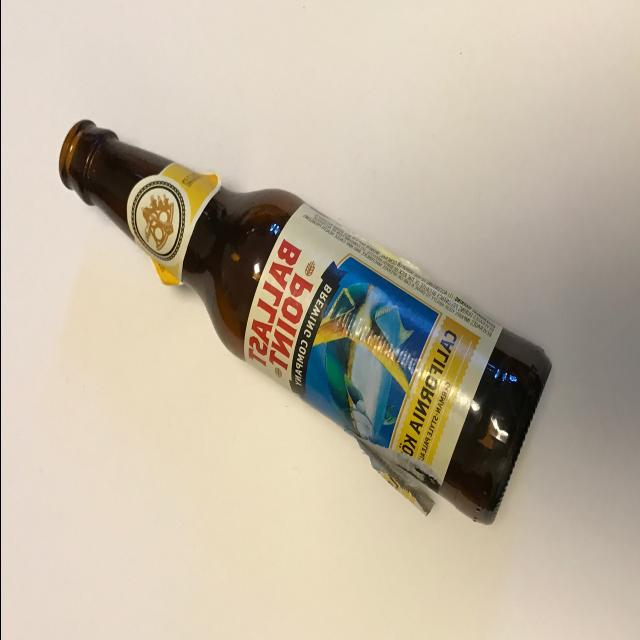glass: (59, 119, 548, 532)
